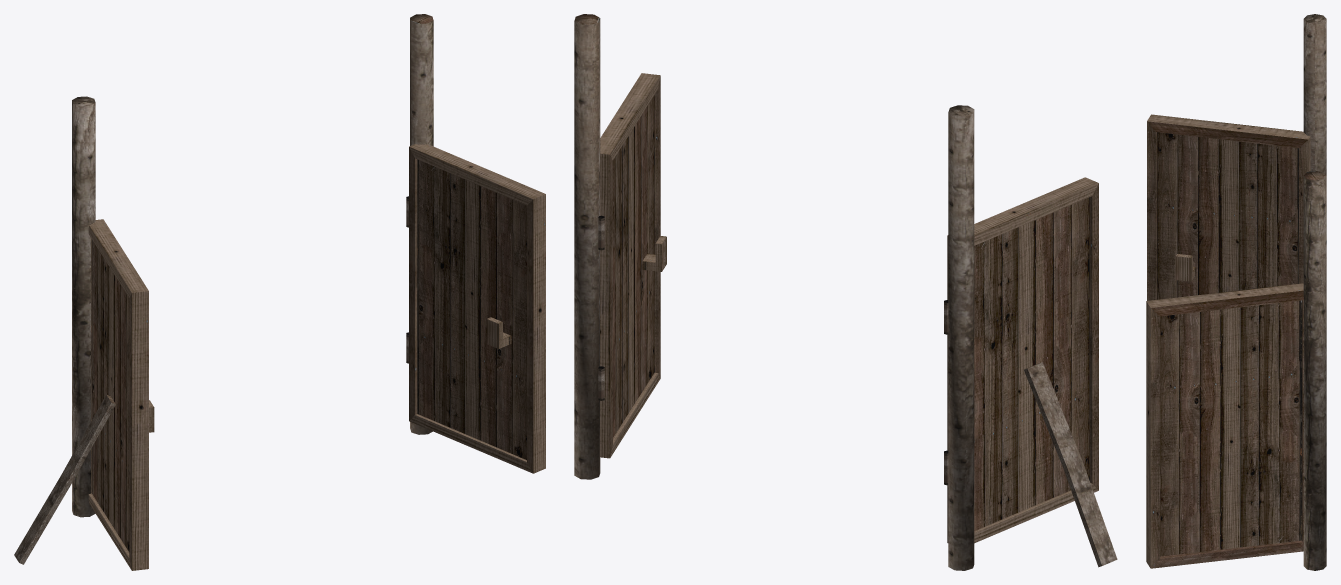
Rendered from Gate.fbx.
3 renders of one model, left to right at view 1: azimuth 30°, elevation 25°; view 2: azimuth 150°, elevation 25°; view 3: azimuth 270°, elevation 25°, orthographic. The views are drawn at different scales.
Parts seen in each view (by area): view 1: Gate; view 2: Gate; view 3: Gate.
Boxes of the visible parts, box(x1,y1,x2,y2) form: Gate: box(14, 14, 545, 570); Gate: box(574, 14, 1117, 570); Gate: box(1146, 14, 1326, 570).
Size of the model in its own units: 475 by 390 by 163.
